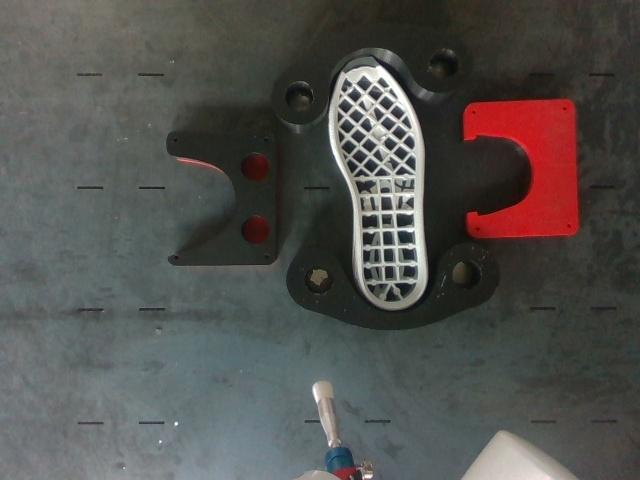shoes: (333, 57, 424, 308)
